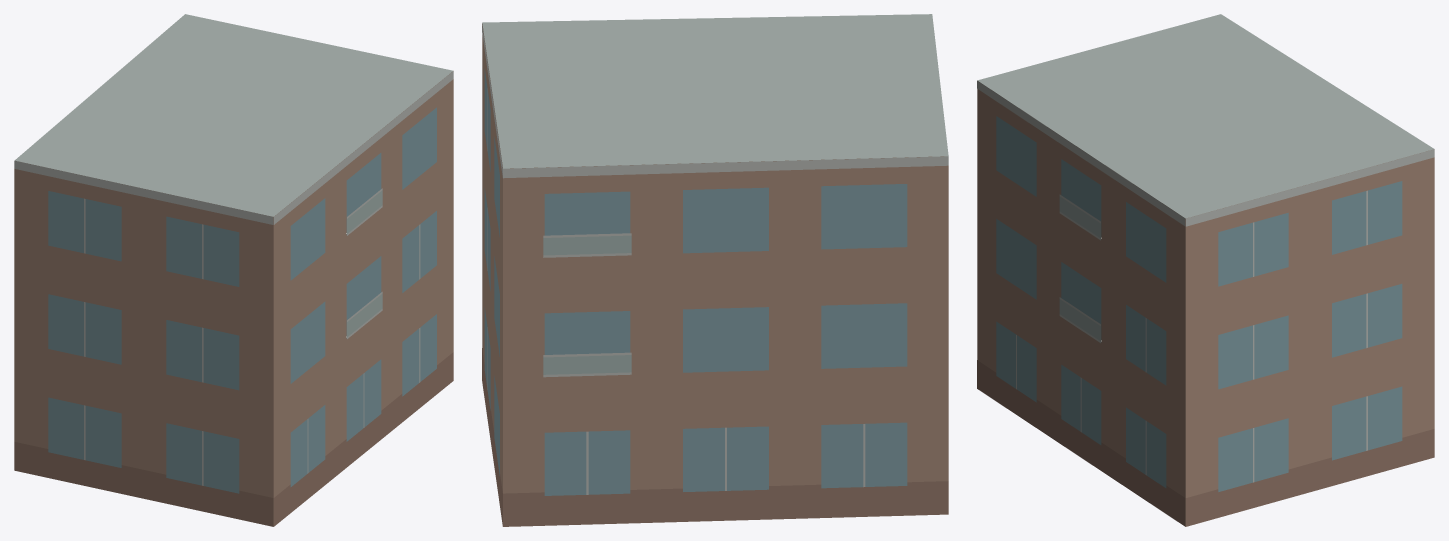
File: survey-upis-32790382.glb
The picture shows the model from 3 angles, left to right: view 1: azimuth 30°, elevation 25°; view 2: azimuth 150°, elevation 25°; view 3: azimuth 270°, elevation 25°; orthographic projection. The views are drawn at different scales.
Parts seen in each view (by area): view 1: survey-upis-32790382.tmp; view 2: survey-upis-32790382.tmp; view 3: survey-upis-32790382.tmp.
Part boxes in pixels (left/top/right/bottom): survey-upis-32790382.tmp: left=14, top=14, right=453, bottom=526; survey-upis-32790382.tmp: left=482, top=14, right=948, bottom=526; survey-upis-32790382.tmp: left=977, top=14, right=1434, bottom=526.
Bounding box in the file's own units: 13.02 × 9.15 × 12.31.
